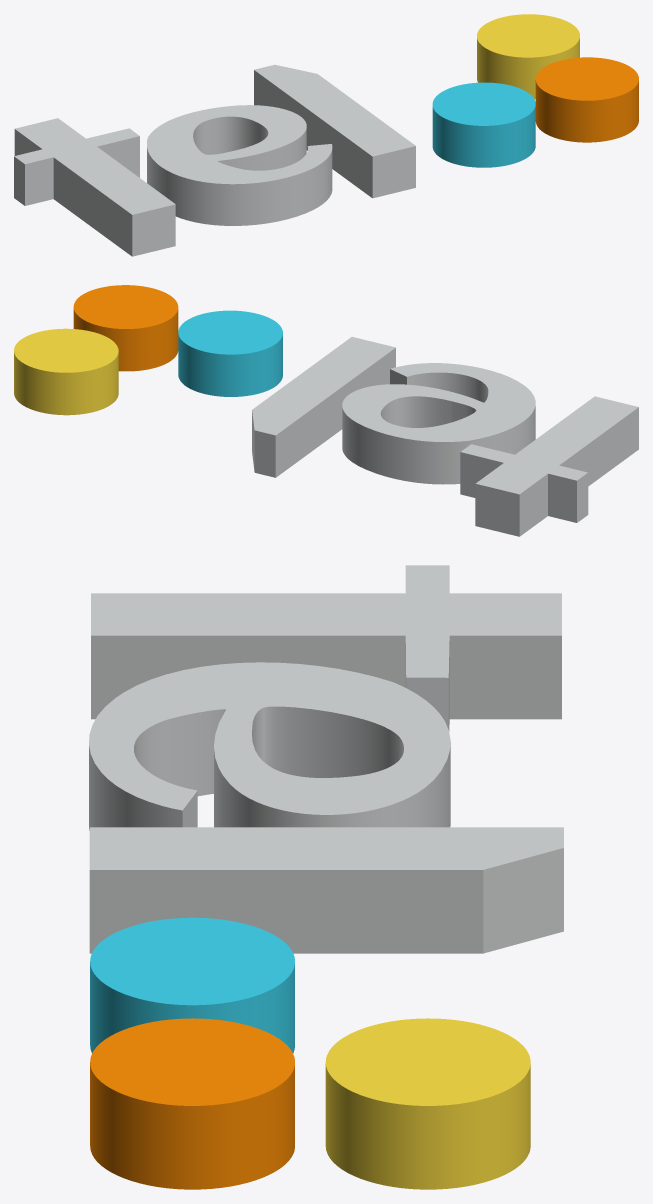
File: tel.gltf
The picture shows the model from 3 angles, top to bottom: view 1: azimuth 30°, elevation 25°; view 2: azimuth 150°, elevation 25°; view 3: azimuth 270°, elevation 25°; orthographic projection. The views are drawn at different scales.
Parts seen in each view (by area): view 1: Extrude_1; view 2: Extrude_1; view 3: Extrude_1.
Boxes of the visible parts, x1,y1,x2,y2 form: Extrude_1: (14, 14, 638, 256); Extrude_1: (14, 285, 638, 536); Extrude_1: (89, 565, 563, 1189).
Size of the model in its own units: 277 by 20 by 103.
